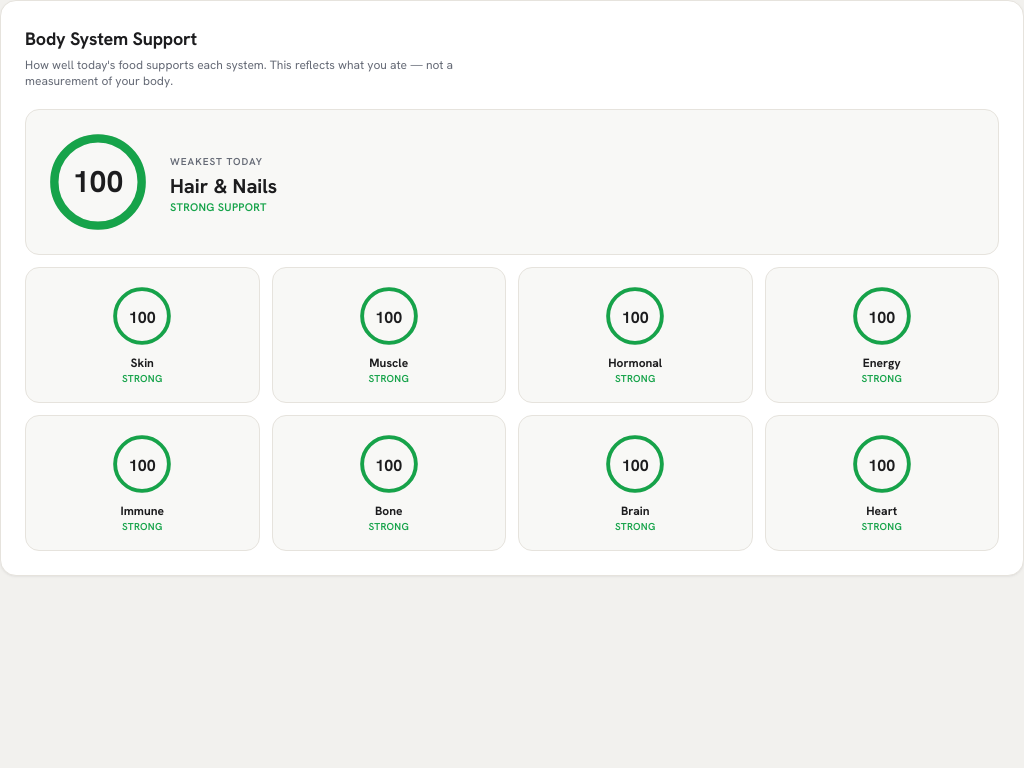
it: BodySystems — drill-in › confirms when nothing is short rather than inventing a gap
Click the button with aria-label "Immune support".
click(142, 483)  # box [25,415,260,551]
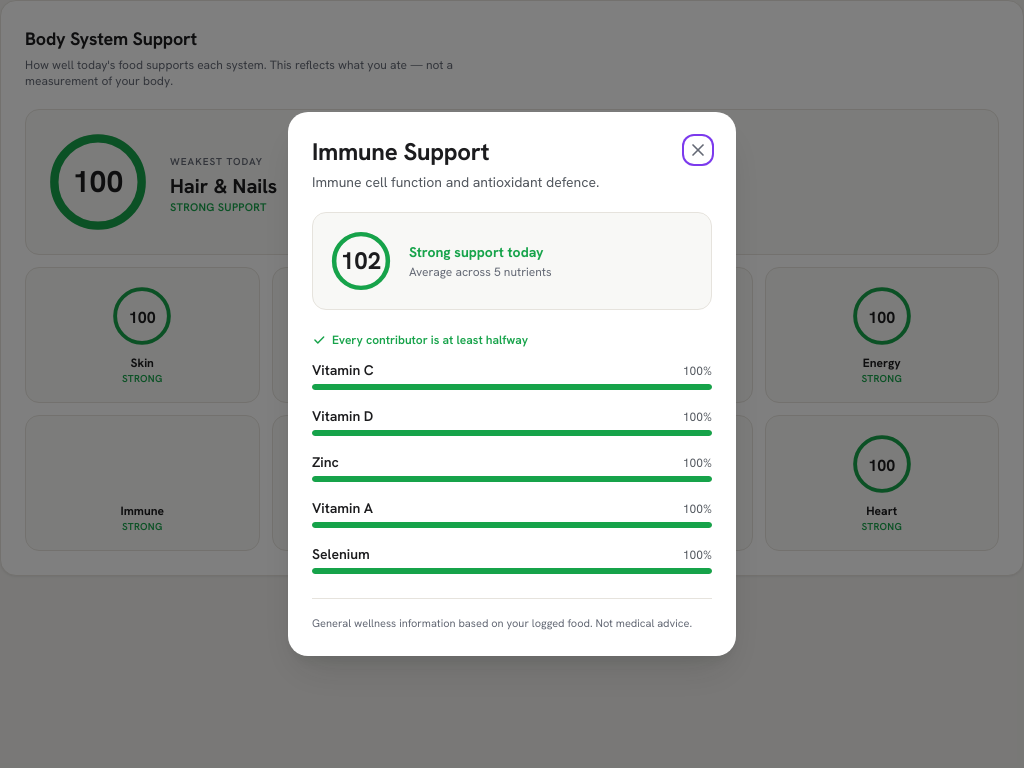
Now the text "Every contributor is at least halfway" is shown, box [312,332,528,348]
